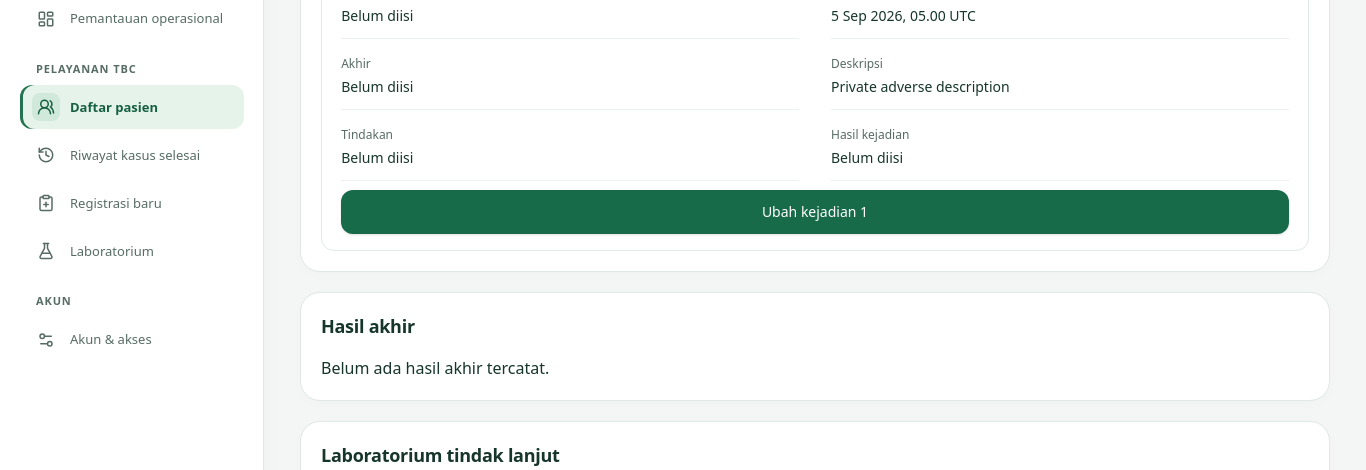
Test: post-closure adverse edit uses child ETag and no immutable or unchanged timestamp fields
(page scrolled)
Click the button "Ubah kejadian 1": [815, 212] box [341,190,1289,234]
(page scrolled)
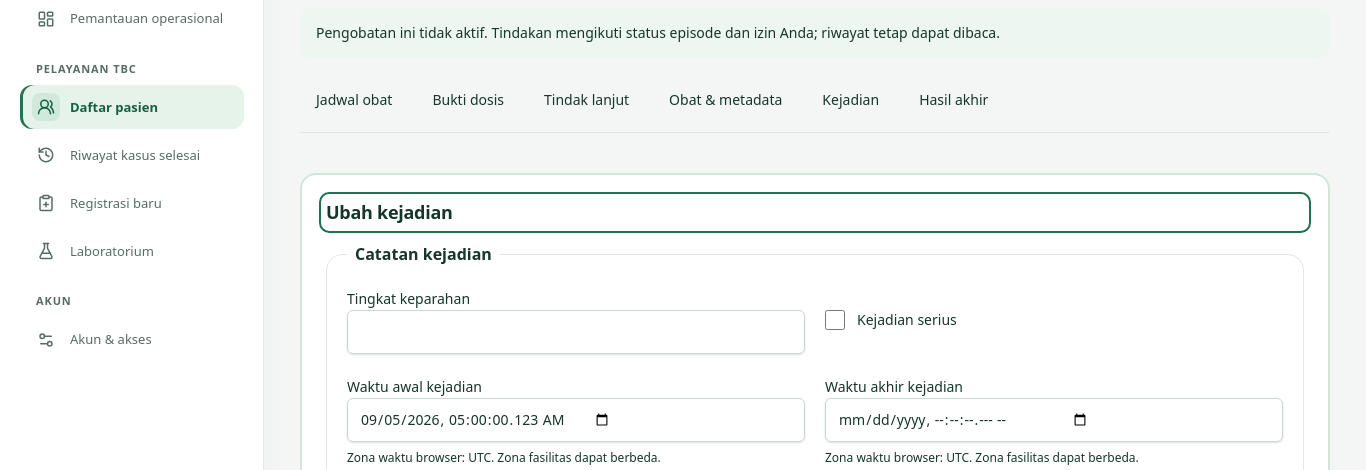
In the field labelled "Tingkat keparahan": [576, 332] box [347,310,805,354], type "Free severity"
(page scrolled)
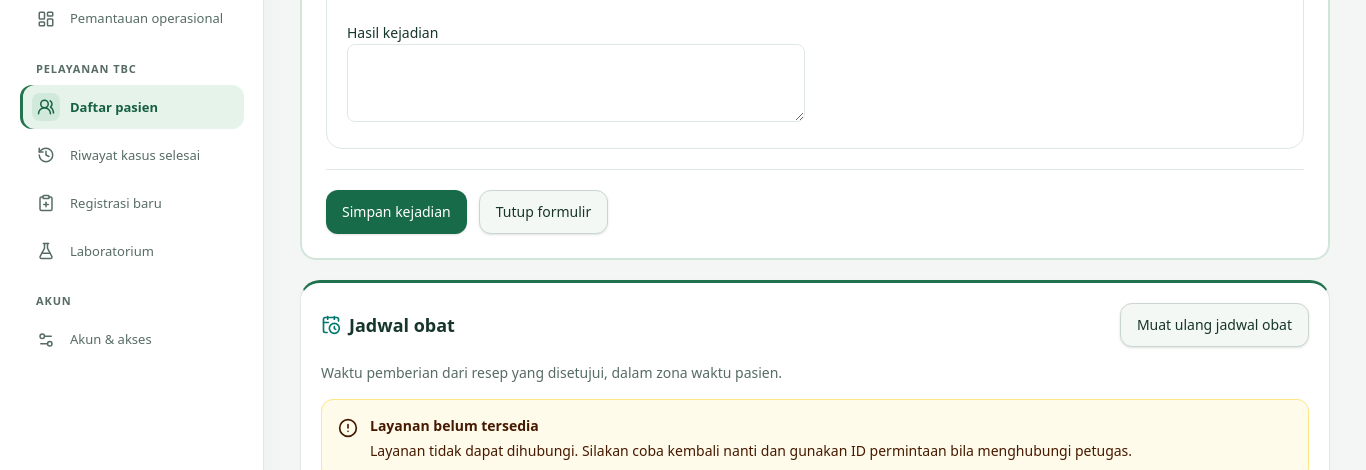
Click the button "Simpan kejadian": [396, 212] box [326,190,467,234]
(page scrolled)
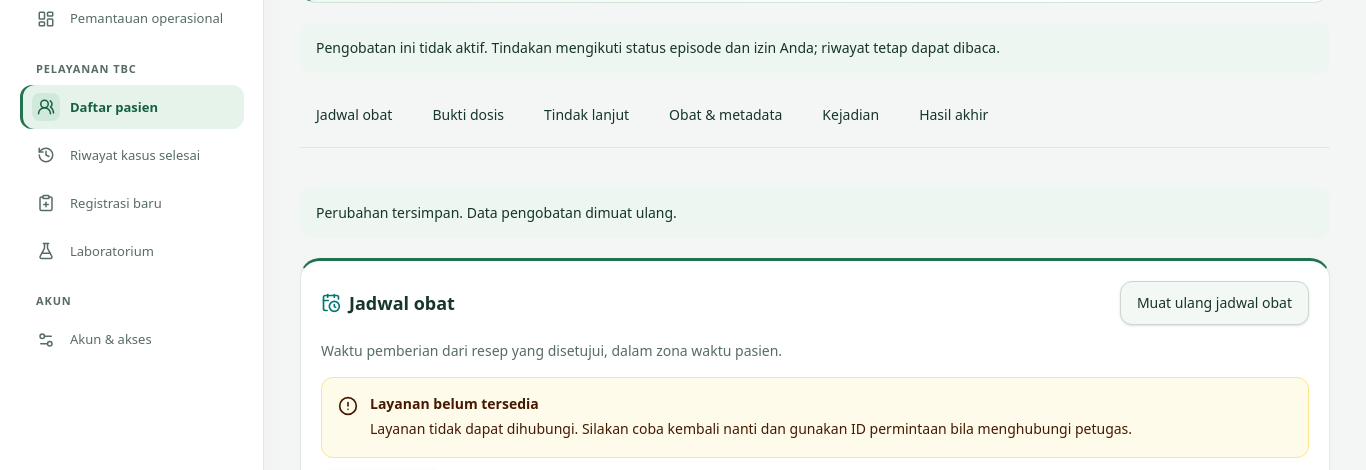
Expected: the text "Perubahan tersimpan. Data pengobatan dimuat ulang." is shown, [300,188,1330,238]
